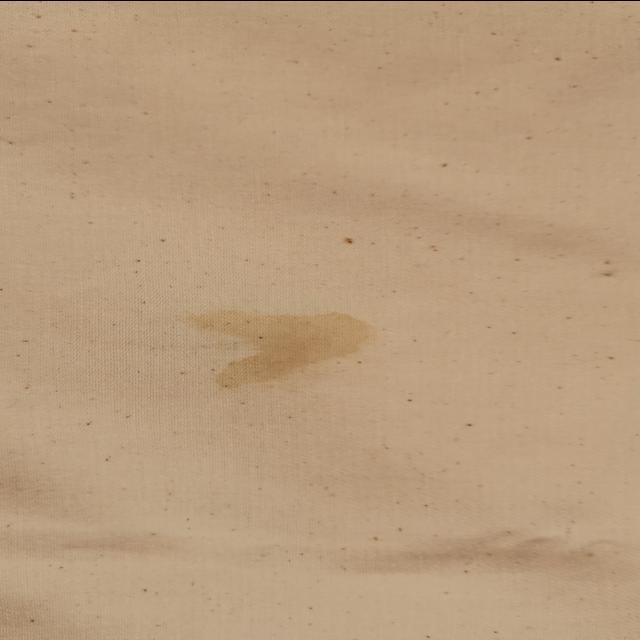taaaches: (168, 299, 384, 393)
